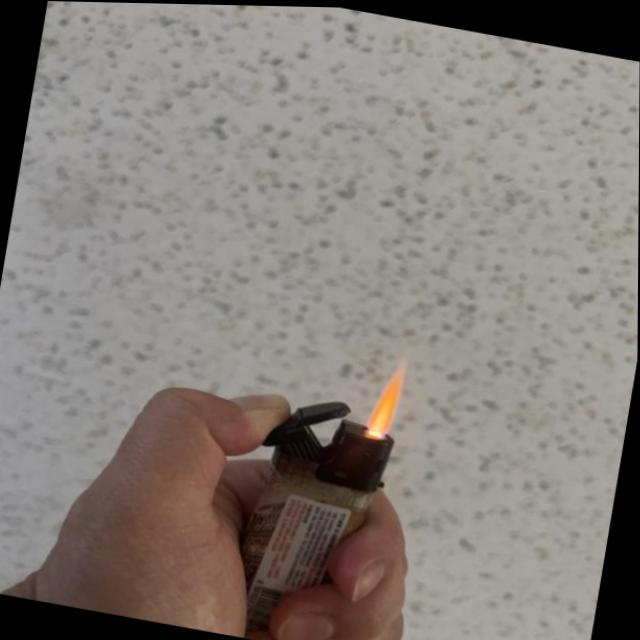Fire: (364, 361, 406, 434)
